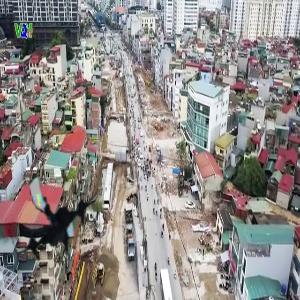drone: (2, 159, 109, 266)
